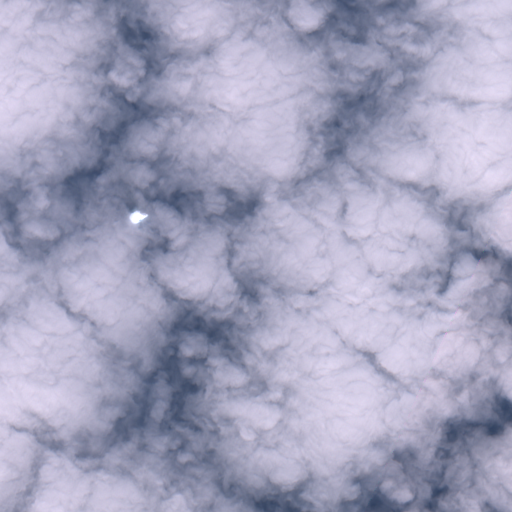Iceberg: (129, 210, 147, 223)
